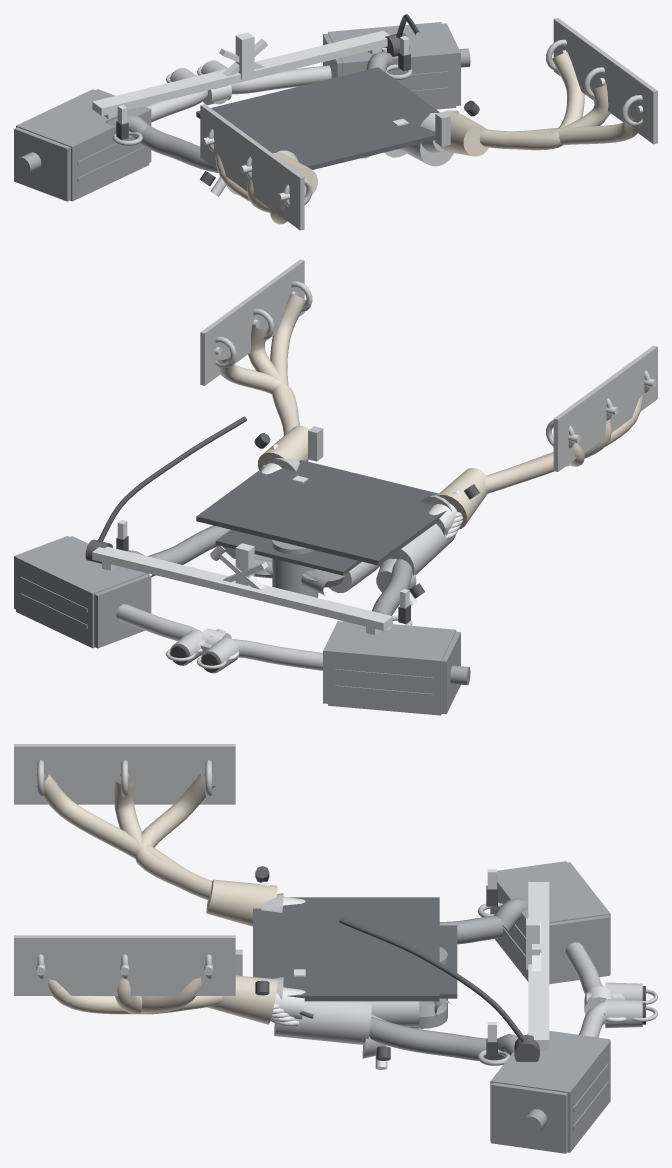
Rendered from exhaust.glb.
3 renders of one model, top to bottom at view 1: azimuth 30°, elevation 25°; view 2: azimuth 150°, elevation 25°; view 3: azimuth 270°, elevation 25°, orthographic. The views are drawn at different scales.
Visible parts, largest first — view 1: heatShield_underbody, mufflerBody_L, manifoldGasket_L, silencerHolderBridge, mufflerBody_R, manifoldGasket_R, mufflerEndOut_L, primaryRunner_R_0, primaryRunner_R_2, tipPipe_R_0, connectingPipe_L, headerCollector_R (+15 smaller); view 2: heatShield_underbody, mufflerBody_L, mufflerBody_R, manifoldGasket_L, silencerHolderBridge, manifoldGasket_R, mufflerEndIn_R, heatShield_midPipe, primaryRunner_R_2, tipPipe_L_0, primaryRunner_L_2, resonatorBody (+10 smaller); view 3: heatShield_underbody, manifoldGasket_R, manifoldGasket_L, mufflerBody_R, mufflerBody_L, mufflerEndOut_R, catBody_R, mufflerEndIn_L, primaryRunner_L_2, silencerHolderBridge, primaryRunner_L_0, connectingPipe_R (+15 smaller).
Boxes of the visible parts, <box> form: heatShield_underbody: <box>196,67,439,169</box>; mufflerBody_L: <box>16,89,149,201</box>; manifoldGasket_L: <box>200,104,304,230</box>; silencerHolderBridge: <box>92,30,389,115</box>; mufflerBody_R: <box>328,22,456,109</box>; manifoldGasket_R: <box>553,18,657,144</box>; mufflerEndOut_L: <box>14,127,70,201</box>; primaryRunner_R_0: <box>480,52,584,150</box>; primaryRunner_R_2: <box>479,114,643,148</box>; tipPipe_R_0: <box>231,65,331,94</box>; connectingPipe_L: <box>139,125,218,173</box>; headerCollector_R: <box>440,110,488,156</box>; heatShield_underbody: <box>196,460,446,565</box>; mufflerBody_L: <box>328,621,456,715</box>; mufflerBody_R: <box>16,536,149,648</box>; manifoldGasket_L: <box>553,345,657,471</box>; silencerHolderBridge: <box>92,546,392,630</box>; manifoldGasket_R: <box>200,259,304,385</box>; mufflerEndIn_R: <box>94,574,151,648</box>; heatShield_midPipe: <box>215,529,361,575</box>; primaryRunner_R_2: <box>270,293,306,435</box>; tipPipe_L_0: <box>211,639,322,670</box>; primaryRunner_L_2: <box>485,395,642,493</box>; resonatorBody: <box>272,540,318,597</box>; heatShield_underbody: <box>253,897,439,1001</box>; manifoldGasket_R: <box>14,935,235,995</box>; manifoldGasket_L: <box>14,744,235,804</box>; mufflerBody_R: <box>490,1032,610,1152</box>; mufflerBody_L: <box>490,862,610,981</box>; mufflerEndOut_R: <box>491,1082,567,1153</box>; catBody_R: <box>274,1001,371,1044</box>; mufflerEndIn_L: <box>549,915,610,984</box>; primaryRunner_L_2: <box>34,774,211,899</box>; silencerHolderBridge: <box>528,882,549,1048</box>; primaryRunner_L_0: <box>135,773,214,898</box>; connectingPipe_R: <box>369,1016,498,1060</box>.
Bounding box in the file's own units: 4.95 × 1.86 × 5.52.
